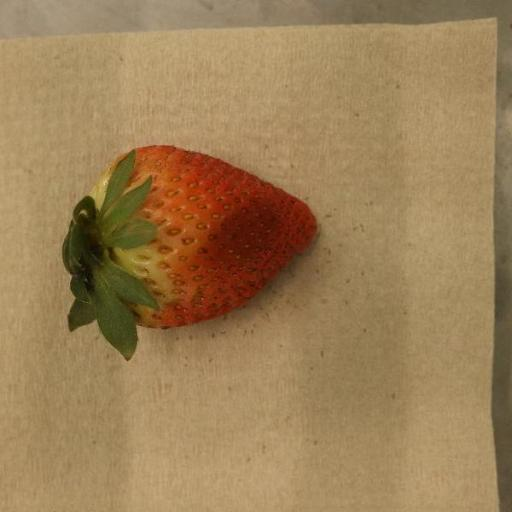Strawberry: (61, 145, 318, 362)
